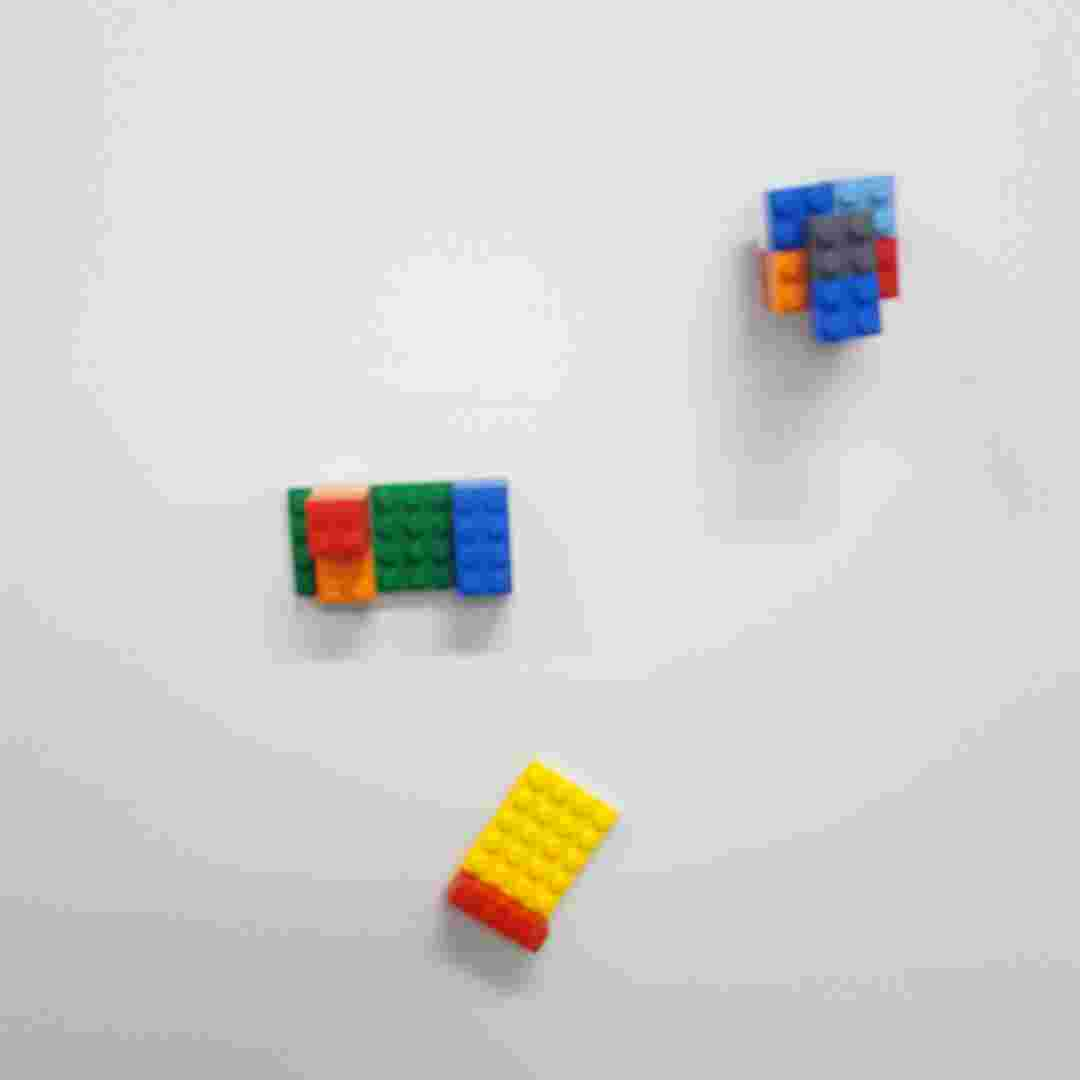LEGO: (442, 751, 622, 955), (276, 475, 519, 601), (749, 175, 916, 353)
